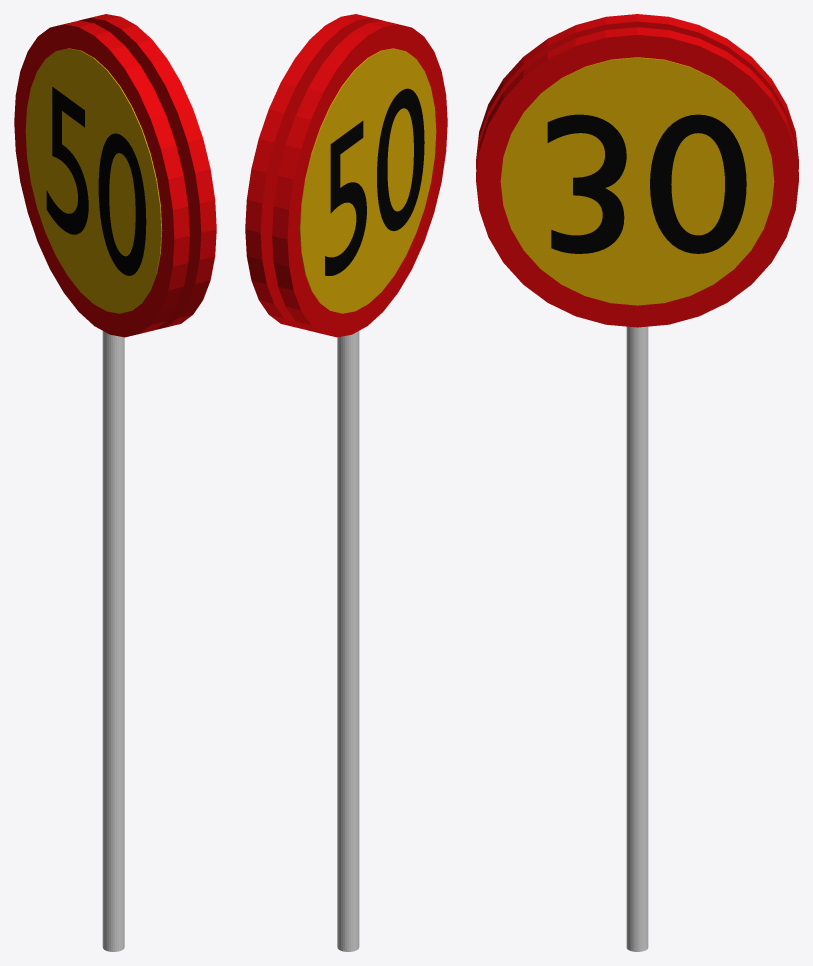
File: sign_50_30.fbx
3 renders of one model, left to right at view 1: azimuth 30°, elevation 25°; view 2: azimuth 150°, elevation 25°; view 3: azimuth 270°, elevation 25°, orthographic.
Parts seen in each view (by area): view 1: Cylinder.001, Cylinder.002, Cylinder, Cylinder.004, Text; view 2: Cylinder.001, Cylinder.002, Cylinder, Cylinder.004, Text; view 3: Cylinder.005, Cylinder.004, Cylinder, Text.002, Cylinder.002.
Boxes of the visible parts, left/top/right/bottom form: Cylinder.001: left=25, top=48, right=162, bottom=313; Cylinder.002: left=14, top=20, right=189, bottom=337; Cylinder: left=102, top=331, right=124, bottom=951; Cylinder.004: left=79, top=14, right=216, bottom=329; Text: left=46, top=87, right=146, bottom=275; Cylinder.001: left=299, top=48, right=436, bottom=313; Cylinder.002: left=272, top=20, right=447, bottom=337; Cylinder: left=337, top=331, right=359, bottom=951; Cylinder.004: left=245, top=14, right=382, bottom=329; Text: left=325, top=88, right=424, bottom=275; Cylinder.005: left=500, top=57, right=774, bottom=305; Cylinder.004: left=476, top=27, right=798, bottom=327; Cylinder: left=626, top=326, right=648, bottom=951; Text.002: left=547, top=114, right=746, bottom=253; Cylinder.002: left=476, top=14, right=798, bottom=168.
Bounding box in the file's own units: 6.18 × 116 × 36.83.
